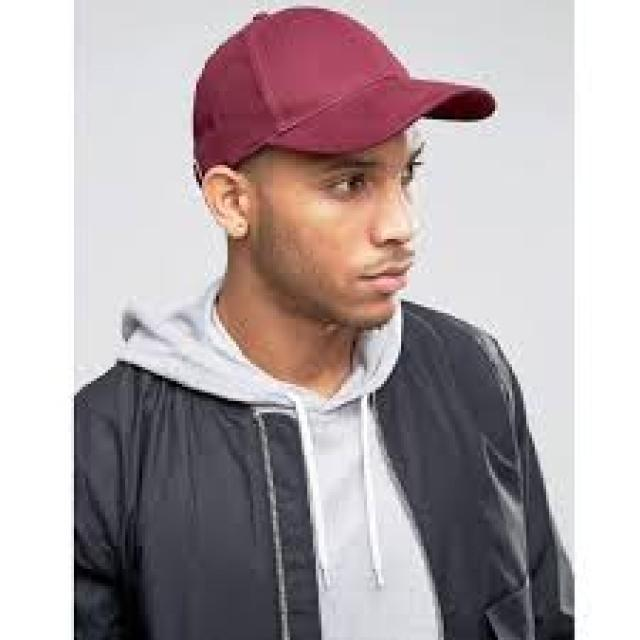cap: (168, 0, 541, 234)
